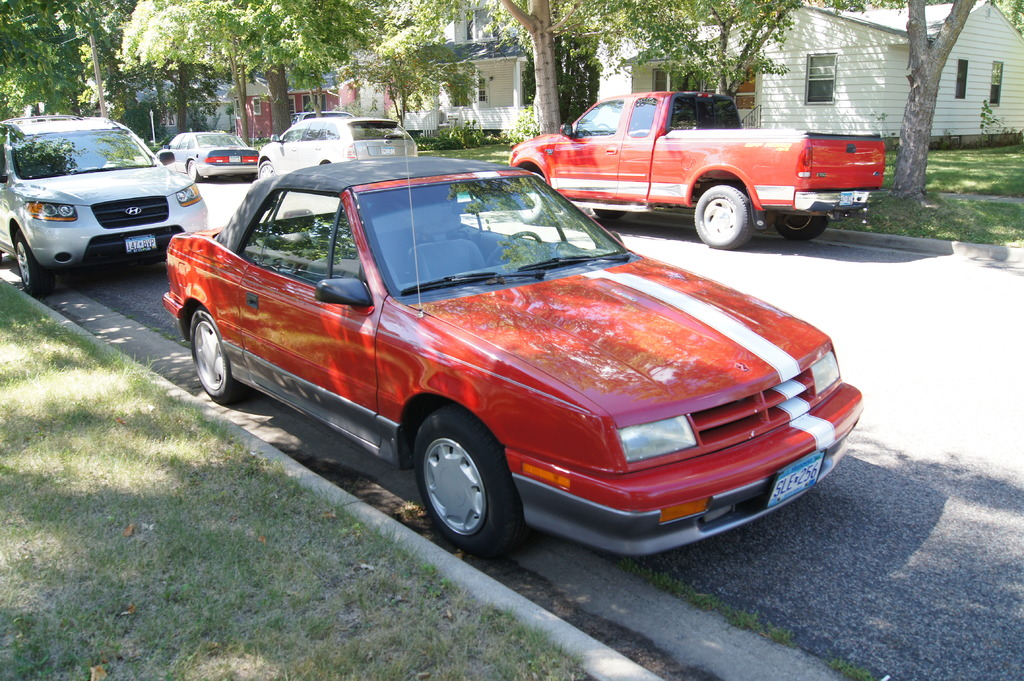car: (130, 136, 898, 583), (485, 74, 896, 276), (1, 104, 223, 285), (252, 92, 439, 177), (149, 104, 265, 194)
